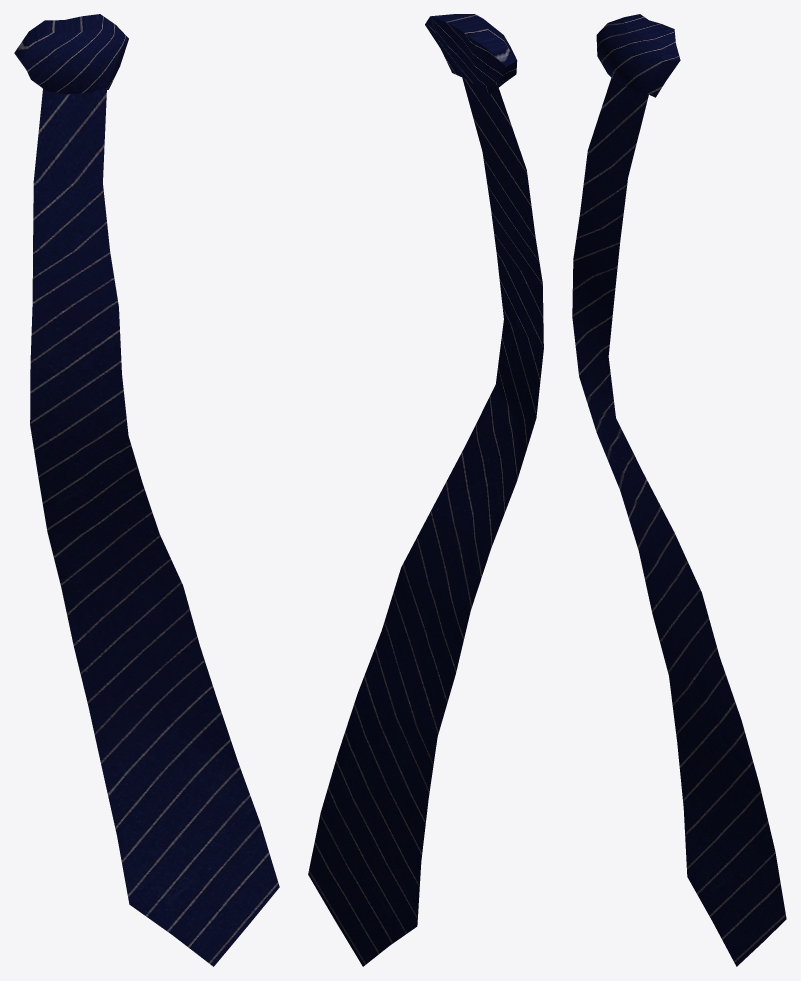
Rendered from Pose-9_Tie-4.fbx.
3 renders of one model, left to right at view 1: azimuth 30°, elevation 25°; view 2: azimuth 150°, elevation 25°; view 3: azimuth 330°, elevation 25°, orthographic. The views are drawn at different scales.
Visible parts, largest first — view 1: Pose-9_Tie-4; view 2: Pose-9_Tie-4; view 3: Pose-9_Tie-4.
Part boxes in pixels (bbox=[...]): Pose-9_Tie-4: bbox=[14, 14, 279, 966]; Pose-9_Tie-4: bbox=[308, 14, 543, 966]; Pose-9_Tie-4: bbox=[572, 14, 786, 966].
Size of the model in its own units: 12.62 by 48.41 by 5.07.
